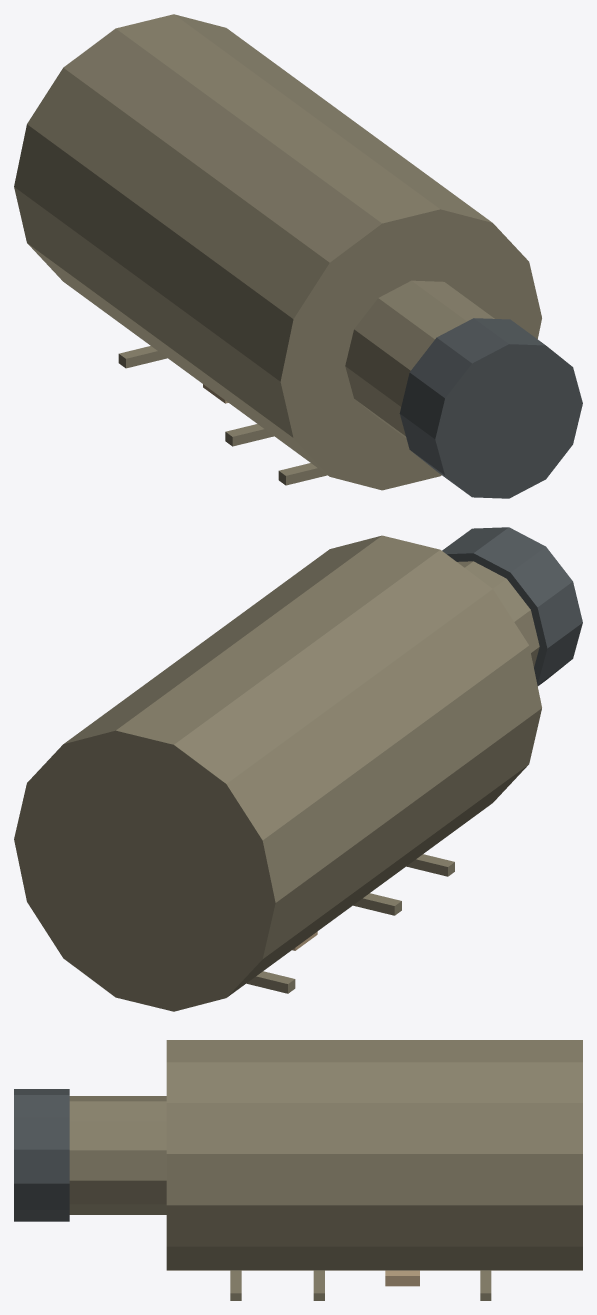
The model's file is dirty_water.glb.
3 renders of one model, top to bottom at view 1: azimuth 30°, elevation 25°; view 2: azimuth 150°, elevation 25°; view 3: azimuth 270°, elevation 25°, orthographic. The views are drawn at different scales.
Parts seen in each view (by area): view 1: 00_dirty_water_bottle, 02_cap, 01_neck, 04_grime, 06_grime, 05_grime; view 2: 00_dirty_water_bottle, 02_cap, 01_neck, 04_grime, 05_grime, 06_grime; view 3: 00_dirty_water_bottle, 01_neck, 02_cap, 03_mud_mark, 06_grime, 04_grime, 05_grime.
Part boxes in pixels (x1,y1,x2,y2): 00_dirty_water_bottle: (14,14,541,490); 02_cap: (399,318,582,498); 01_neck: (345,280,494,438); 04_grime: (118,346,167,368); 06_grime: (278,463,327,485); 05_grime: (225,424,273,446); 00_dirty_water_bottle: (14,535,541,1011); 02_cap: (442,527,582,686); 01_neck: (457,561,539,667); 04_grime: (246,971,295,993); 05_grime: (353,893,401,915); 06_grime: (406,854,454,876); 00_dirty_water_bottle: (166,1040,582,1270); 01_neck: (69,1096,166,1214); 02_cap: (14,1089,69,1221); 03_mud_mark: (385,1270,419,1286); 06_grime: (230,1270,241,1300); 04_grime: (480,1270,491,1300); 05_grime: (313,1270,324,1300).
Size of the model in its own units: 0.17 by 0.1729 by 0.41.
